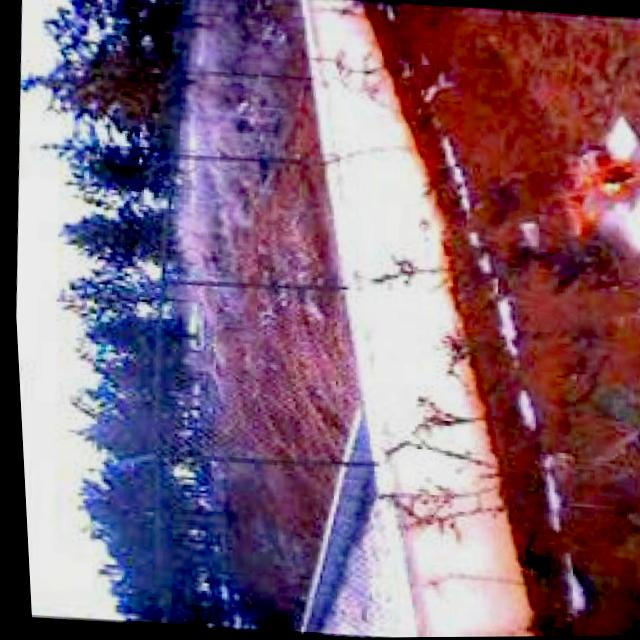Fire: (539, 130, 640, 257)
